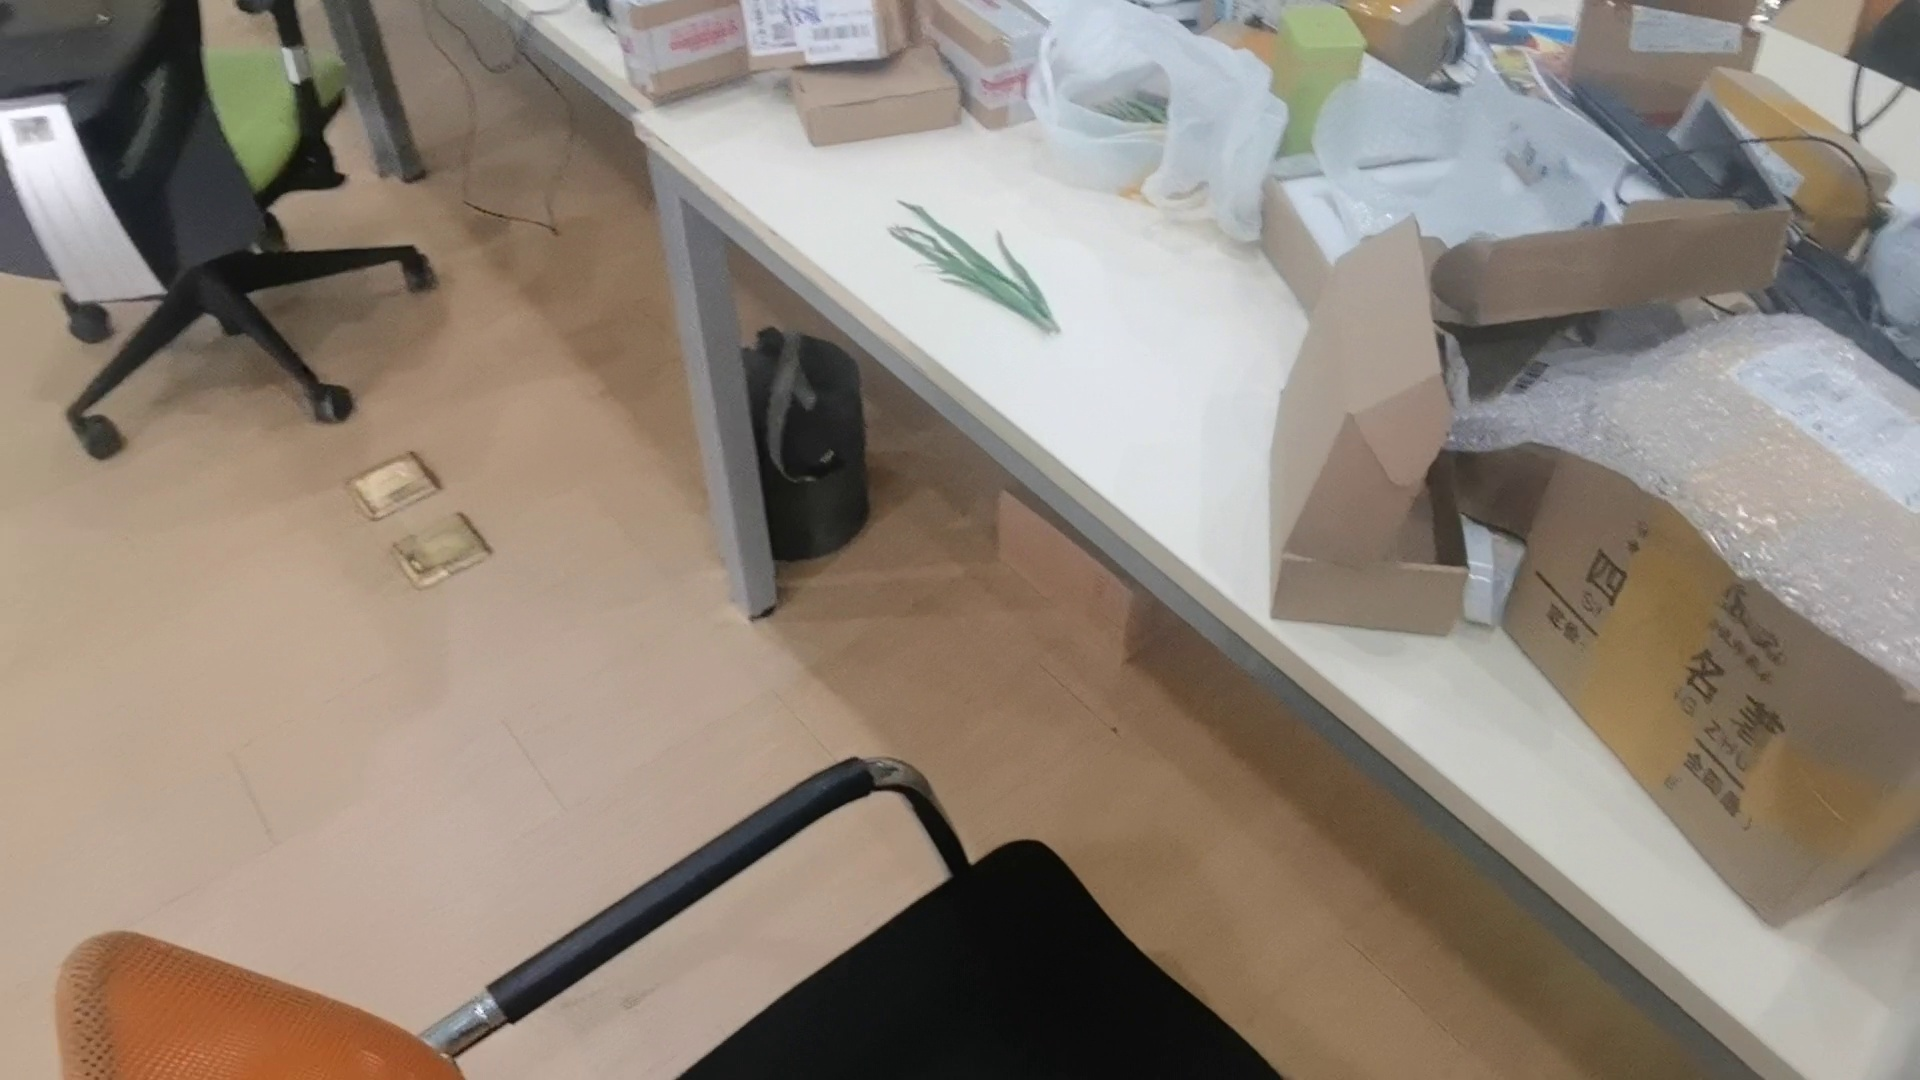chives: (887, 186, 1067, 334)
